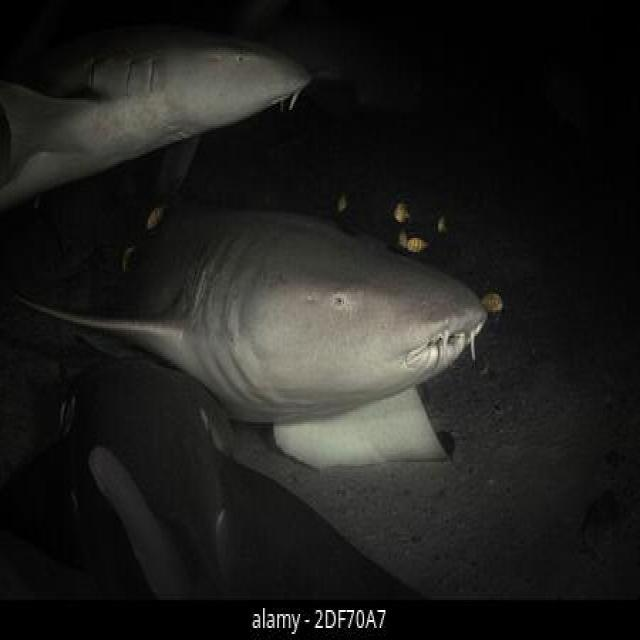Shark: (42, 142, 504, 430)
